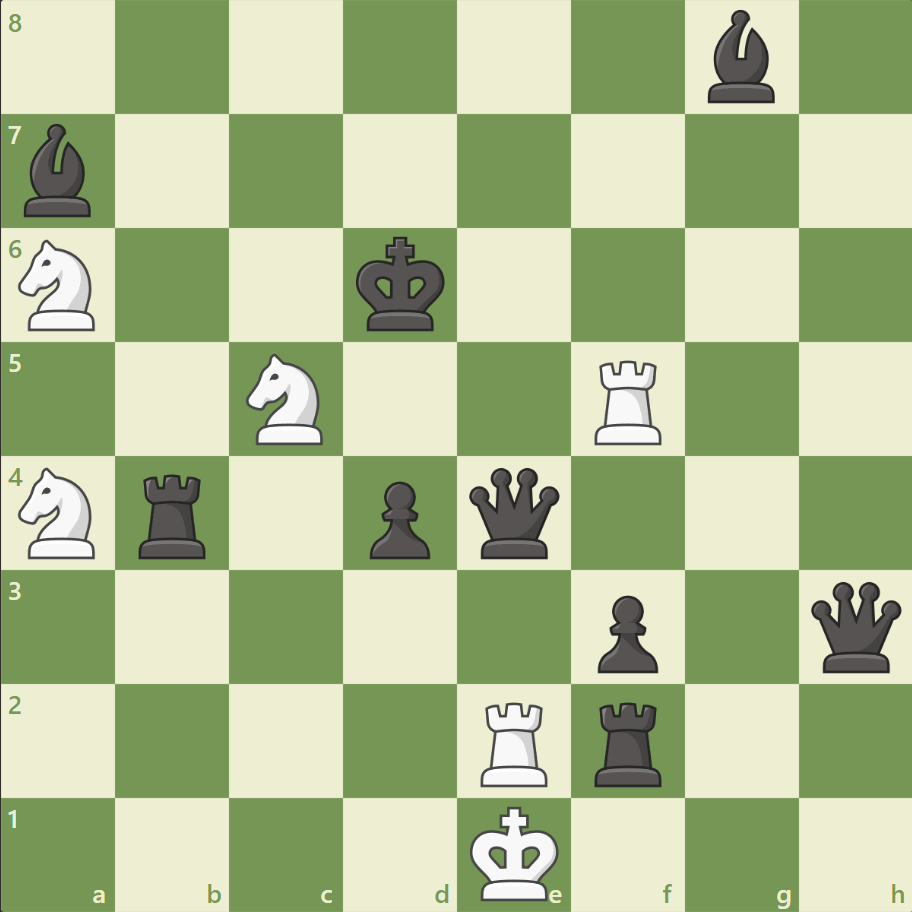K: (465, 798, 565, 906)
N: (11, 234, 108, 337), (11, 461, 108, 564), (238, 348, 335, 450)
R: (587, 352, 670, 449), (473, 693, 556, 790)
b: (698, 6, 782, 109), (17, 120, 101, 222)
k: (351, 231, 451, 339)
p: (361, 473, 435, 564), (588, 586, 662, 677)
q: (805, 576, 904, 676), (464, 463, 563, 562)
r: (587, 693, 670, 790), (133, 466, 215, 563)
